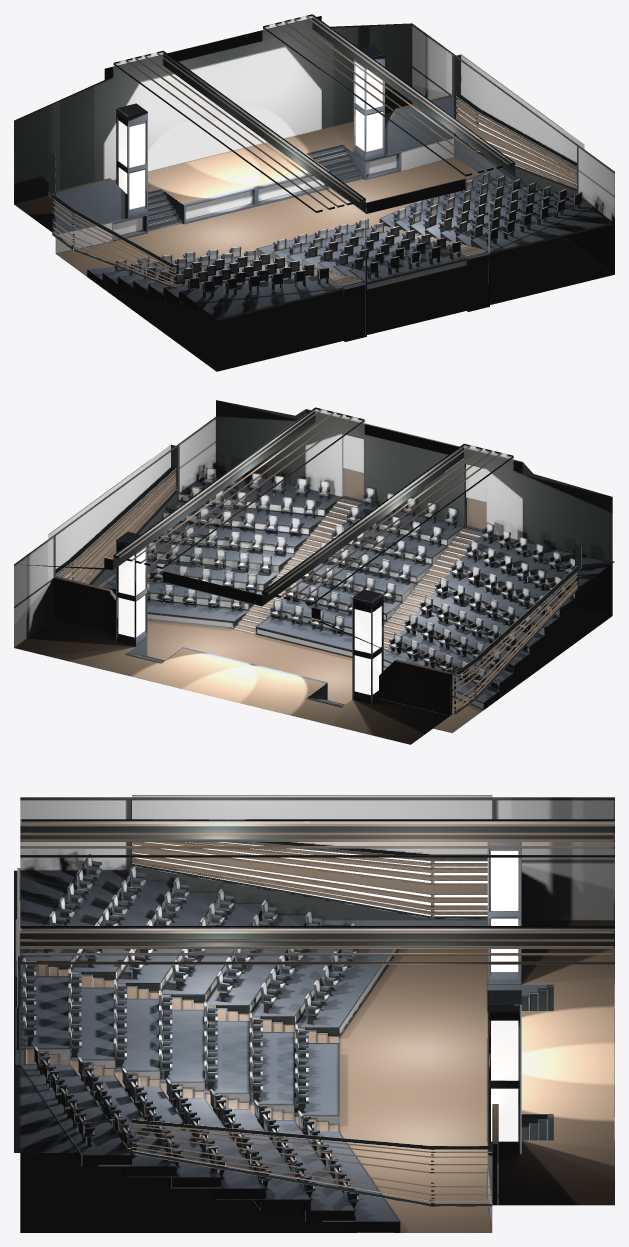
3 views of the same model, one above another, from view 1: azimuth 30°, elevation 25°; view 2: azimuth 150°, elevation 25°; view 3: azimuth 270°, elevation 25° (orthographic). The views are drawn at different scales.
Parts seen in each view (by area): view 1: BuildingArchitecture.001_0; view 2: BuildingArchitecture.001_0; view 3: BuildingArchitecture.001_0.
Boxes of the visible parts, x1=… form: BuildingArchitecture.001_0: x1=14, y1=14, x2=614, y2=371; BuildingArchitecture.001_0: x1=14, y1=400, x2=614, y2=744; BuildingArchitecture.001_0: x1=14, y1=795, x2=614, y2=1232.
Size of the model in its own units: 22.8 by 7.2 by 19.61.
Materials: 5 (5 with a texture image).
